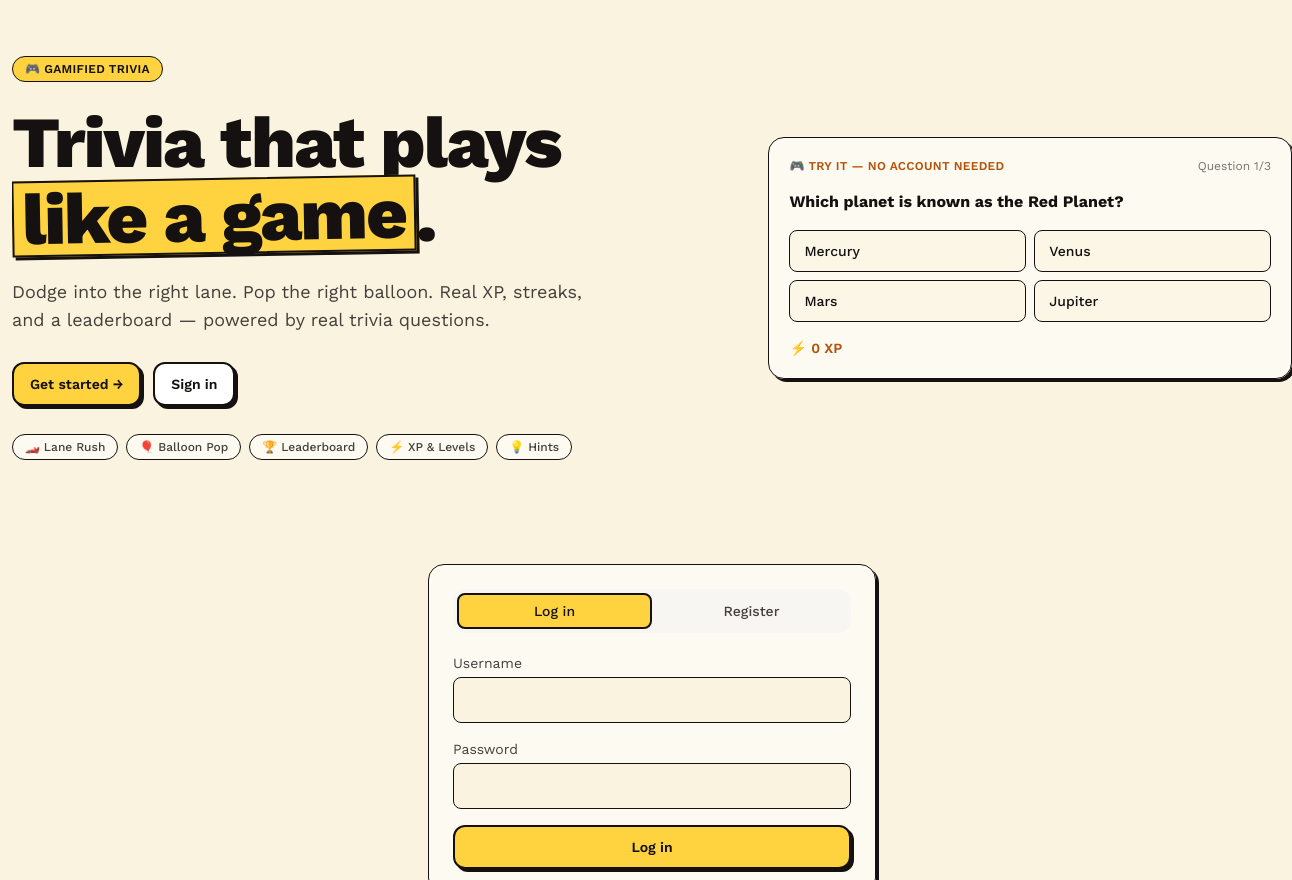
LoginScreen › shows an error message when login fails
Type "alice" into the field labelled "Username".
click(652, 700); type("alice")  # box x1=453 y1=677 x2=851 y2=723
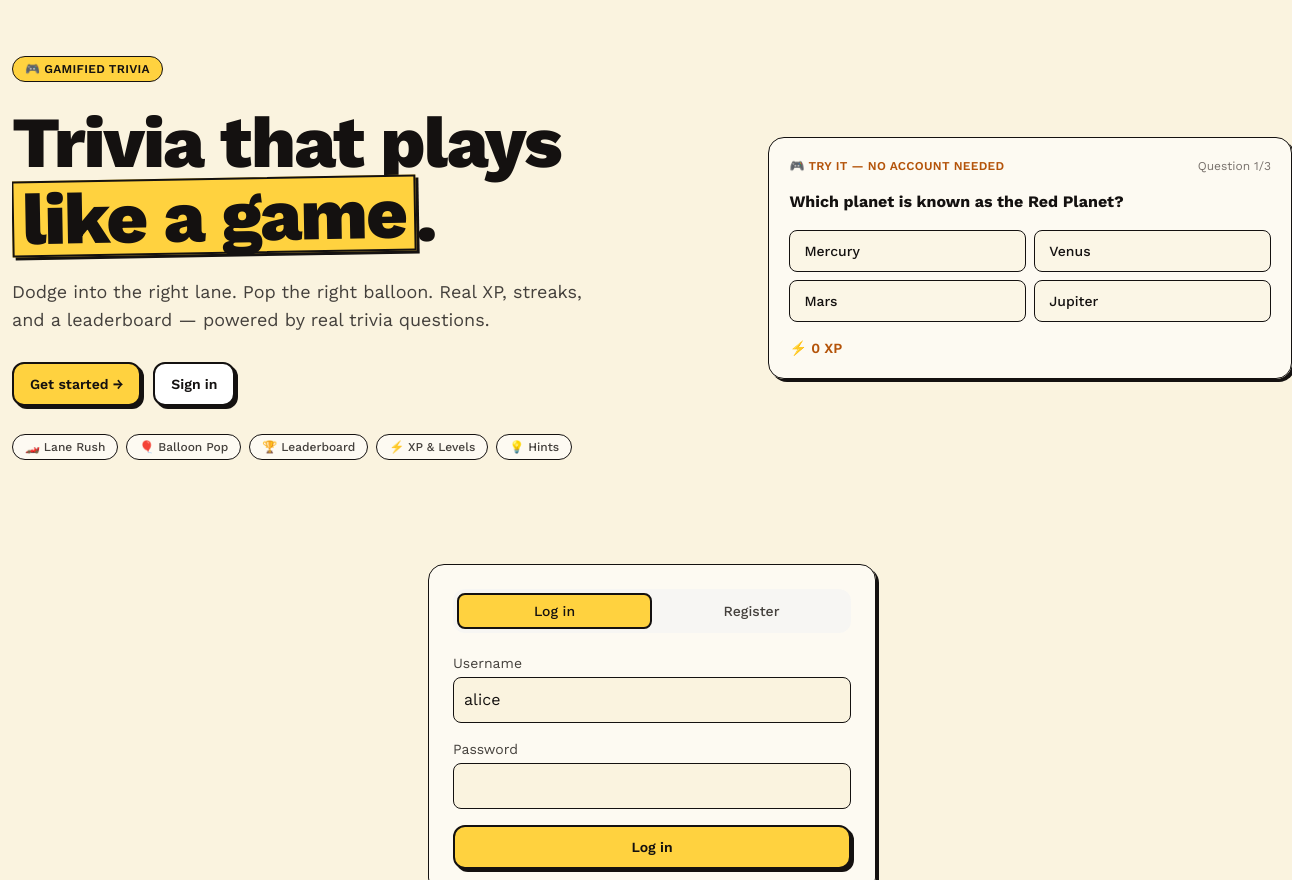
Type "wrong-password" into the password field labelled "Password".
click(652, 786); type("wrong-password")  # box x1=453 y1=763 x2=851 y2=809
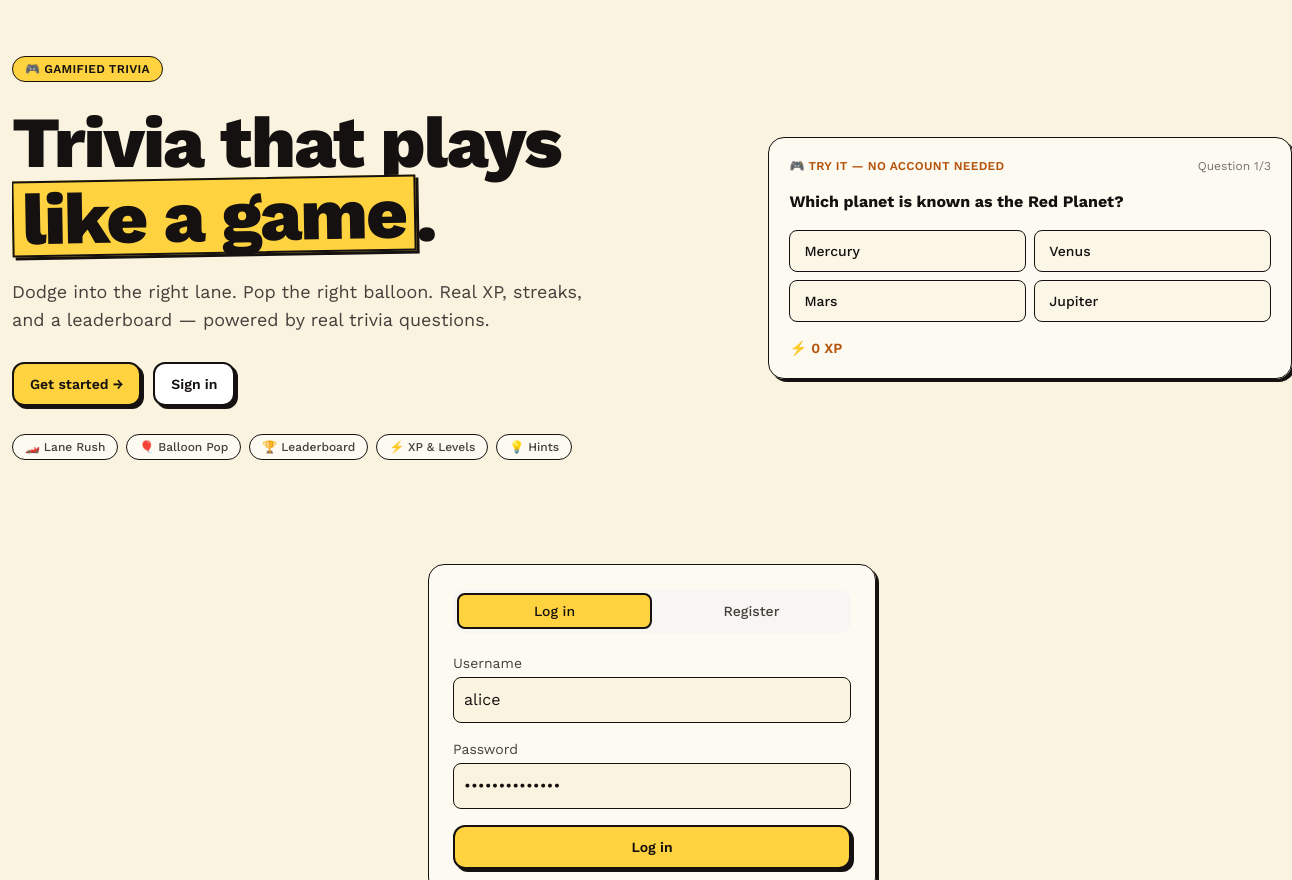
Submit the form, box x1=453 y1=653 x2=851 y2=869
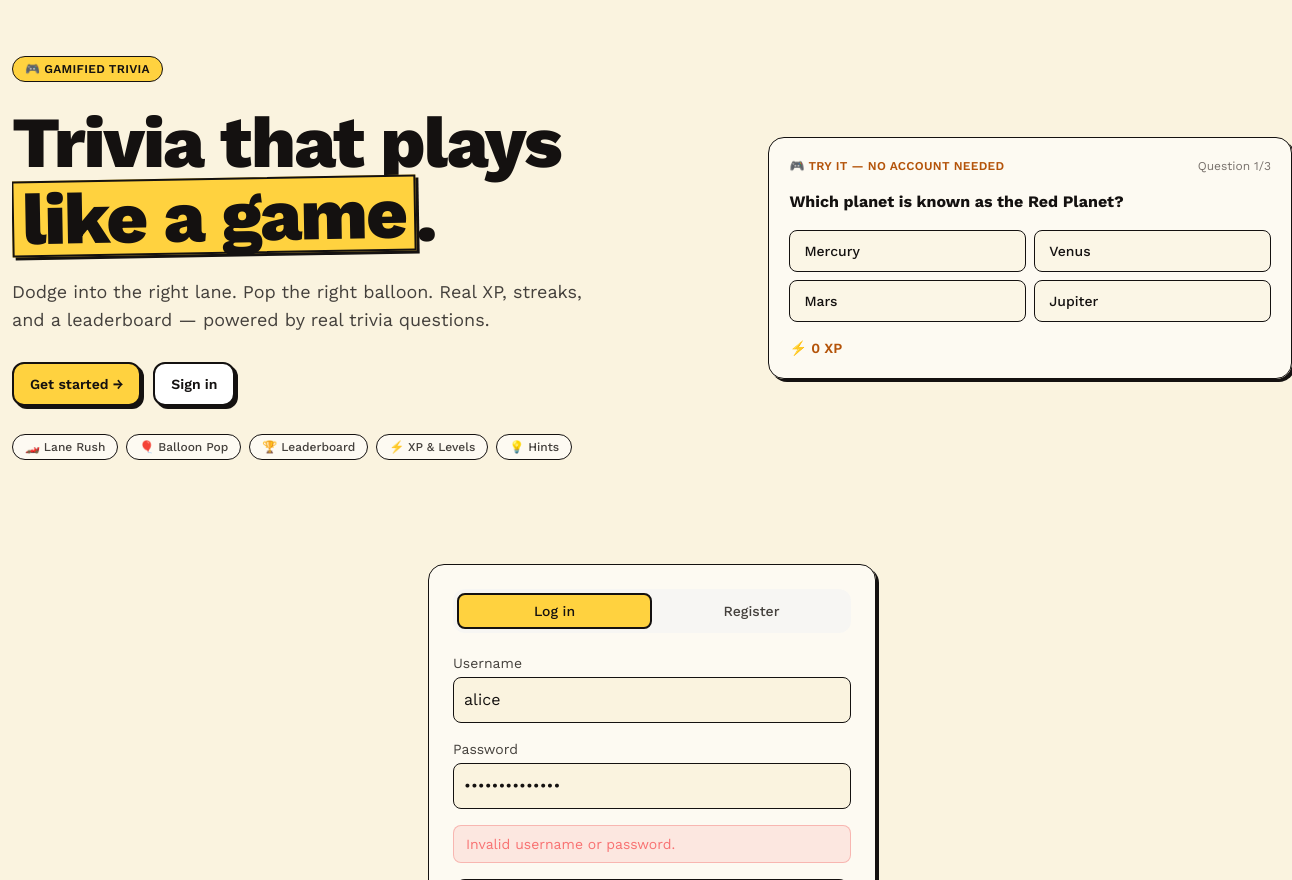
Check: the text "Invalid username or password." is shown, box x1=453 y1=825 x2=851 y2=863
